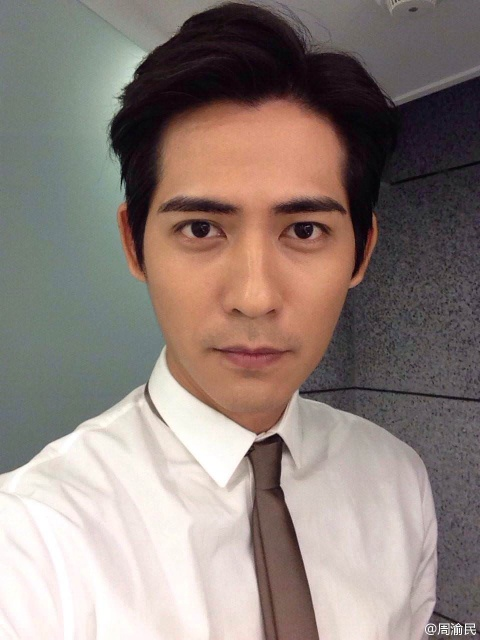male: (92, 20, 388, 456)
